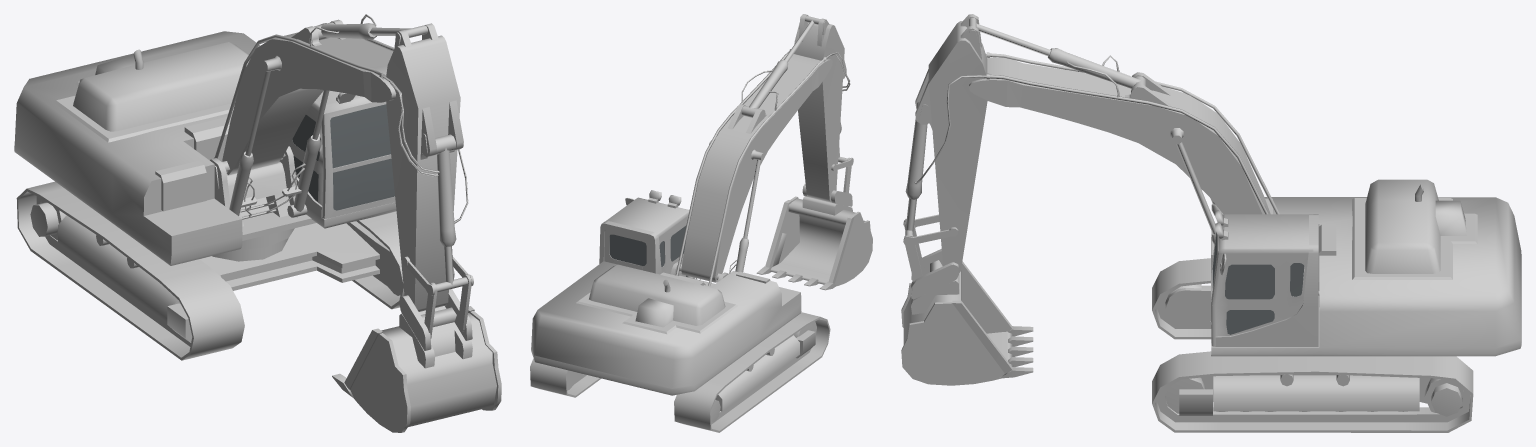
The model's file is HydraulicExcavator_LOD3.FBX.
The picture shows the model from 3 angles, left to right: view 1: azimuth 30°, elevation 25°; view 2: azimuth 150°, elevation 25°; view 3: azimuth 270°, elevation 25°; orthographic projection. The views are drawn at different scales.
Parts seen in each view (by area): view 1: Arm_LOD3, Body_LOD3, Track_LOD3, Windows_LOD3; view 2: Arm_LOD3, Body_LOD3, Track_LOD3, Windows_LOD3; view 3: Arm_LOD3, Body_LOD3, Track_LOD3, Windows_LOD3.
Boxes of the visible parts, <box> form: Arm_LOD3: <box>210,14,501,432</box>; Body_LOD3: <box>14,31,402,342</box>; Track_LOD3: <box>16,181,454,360</box>; Windows_LOD3: <box>292,104,394,210</box>; Arm_LOD3: <box>599,14,872,290</box>; Body_LOD3: <box>531,261,815,422</box>; Track_LOD3: <box>530,312,830,432</box>; Windows_LOD3: <box>609,225,686,276</box>; Arm_LOD3: <box>901,14,1319,385</box>; Body_LOD3: <box>1165,179,1521,416</box>; Track_LOD3: <box>1152,258,1473,432</box>; Windows_LOD3: <box>1212,233,1304,334</box>.
Bounding box in the file's own units: 5.37 × 7.52 × 12.07.
